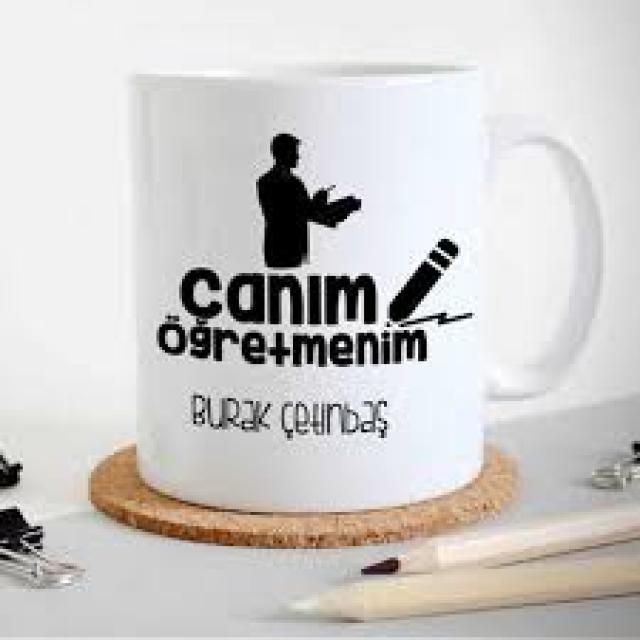taza: (128, 62, 606, 516)
